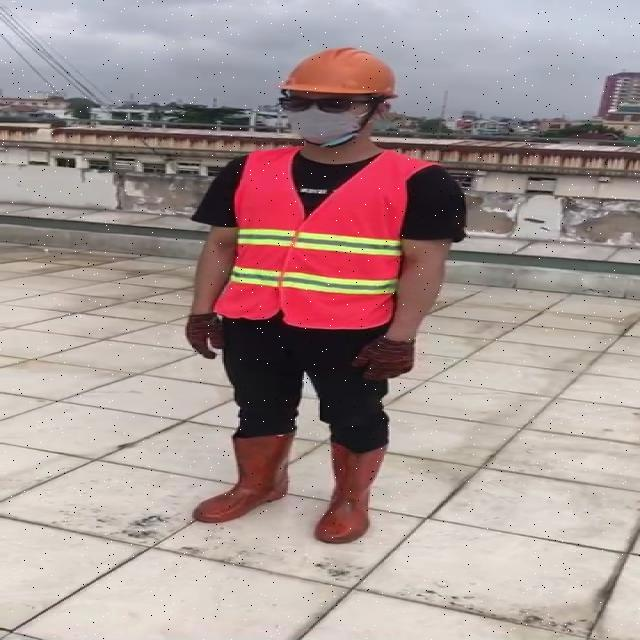Hard_hat: (274, 45, 412, 112)
Person: (173, 37, 472, 635)
Vest: (220, 141, 406, 331)
